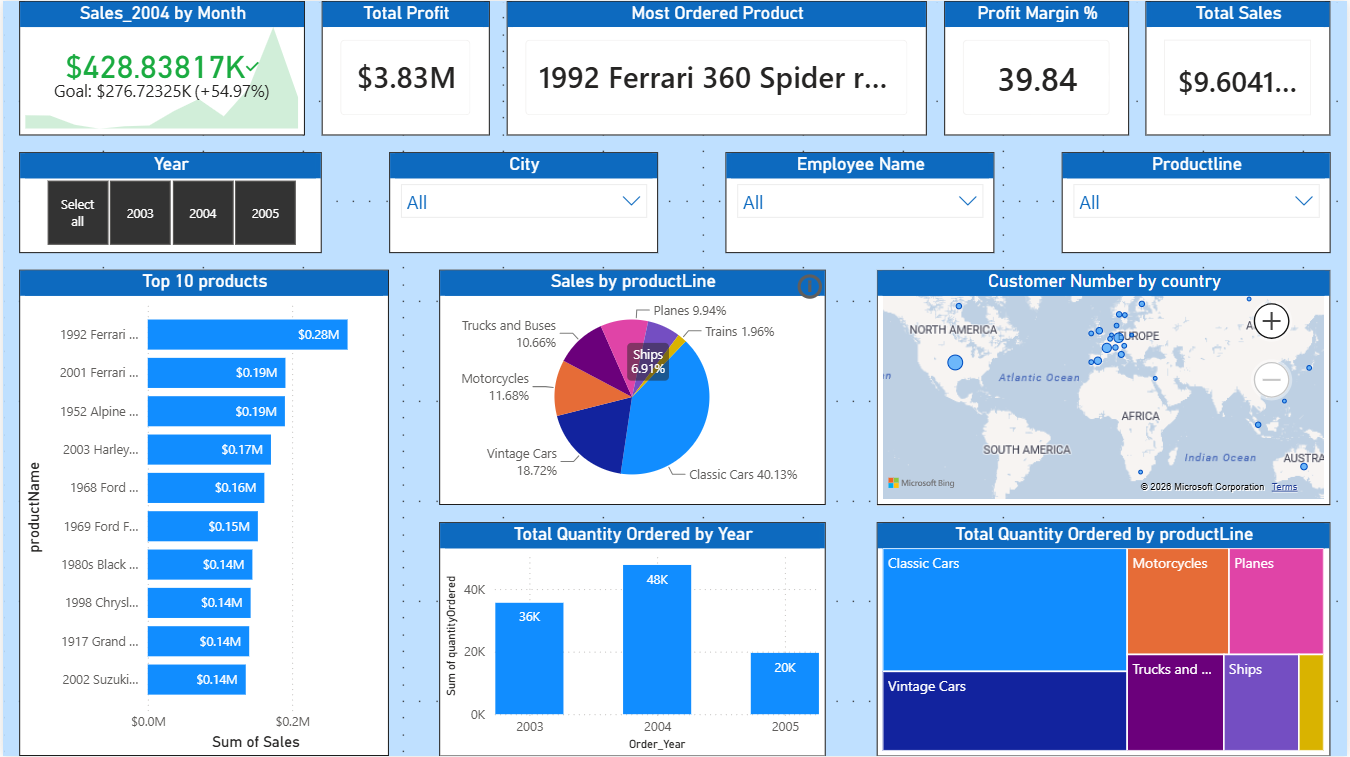

The dashboard page shown, as its layout file describes it:
{"tool":"powerbi","page":{"name":"Page 1","canvas":[1280,720],"ordinal":0},"visuals":[{"type":"cardVisual","title":"Total Profit","fields":{"Data":["order details.total_profit"]},"box":[304,0,160,128],"z":0},{"type":"cardVisual","title":"Most Ordered Product","fields":{"Data":["order details.MostOrderedProduct"]},"box":[480,0,400,128],"z":1000},{"type":"barChart","title":"Top 10 products ","fields":{"Category":["products.productName"],"Y":["Sum(order details.Sales)"]},"box":[16,256,352,464],"z":2000},{"type":"pieChart","title":"Sales by productLine","fields":{"Category":["productlines.productLine"],"Y":["Sum(order details.Sales)"]},"box":[416,256,368,224],"z":3000},{"type":"kpi","title":"Sales_2004 by Month","fields":{"TrendLine":["orders.Month of order date"],"Indicator":["orders.Sales_2004"],"Goal":["orders.Sales_2003"]},"box":[16,0,272,128],"z":4000},{"type":"map","title":"Customer Number by country","fields":{"Category":["customers.country"],"Size":["CountNonNull(customers.customerNumber)"]},"box":[832,256,432,224],"z":5000},{"type":"treemap","title":"Total Quantity Ordered by productLine","fields":{"Group":["productlines.productLine"],"Values":["Sum(order details.quantityOrdered)"]},"box":[832,496,432,224],"z":6000},{"type":"columnChart","title":"Total Quantity Ordered by Year","fields":{"Category":["orders.Order_Year"],"Y":["Sum(order details.quantityOrdered)"]},"box":[416,496,368,224],"z":7000},{"type":"cardVisual","title":"Profit Margin %","fields":{"Data":["classic_models_dataset.Profit Margin %"]},"box":[896,0,176,128],"z":8000},{"type":"cardVisual","title":"Total Sales","fields":{"Data":["Sum(order details.Sales)"]},"box":[1088,0,176,128],"z":9000},{"type":"slicer","title":"City","fields":{"Values":["offices.city"]},"box":[368,144,256,96],"z":10000},{"type":"slicer","title":"Employee Name","fields":{"Values":["employees.EmpFullName"]},"box":[688,144,256,96],"z":11000},{"type":"slicer","title":"Productline","fields":{"Values":["productlines.productLine"]},"box":[1008,144,256,96],"z":12000},{"type":"slicer","title":"Year","fields":{"Values":["orders.Order_Year"]},"box":[16,144,288,96],"z":13000},{"type":"actionButton","box":[752,256,32,32],"z":14000}]}

Visuals, with their boxes in screenshot pixels (x1, y1, x2, y2), scaled from the page's 1280x720 canvas onto the 1350x757 screenshot:
"Total Profit" cardVisual: region(321, 0, 489, 135)
"Most Ordered Product" cardVisual: region(506, 0, 928, 135)
"Top 10 products " barChart: region(17, 269, 388, 756)
"Sales by productLine" pieChart: region(439, 269, 827, 505)
"Sales_2004 by Month" kpi: region(17, 0, 304, 135)
"Customer Number by country" map: region(878, 269, 1333, 505)
"Total Quantity Ordered by productLine" treemap: region(878, 521, 1333, 756)
"Total Quantity Ordered by Year" columnChart: region(439, 521, 827, 756)
"Profit Margin %" cardVisual: region(945, 0, 1131, 135)
"Total Sales" cardVisual: region(1148, 0, 1333, 135)
"City" slicer: region(388, 151, 658, 252)
"Employee Name" slicer: region(726, 151, 996, 252)
"Productline" slicer: region(1063, 151, 1333, 252)
"Year" slicer: region(17, 151, 321, 252)
actionButton: region(793, 269, 827, 303)
